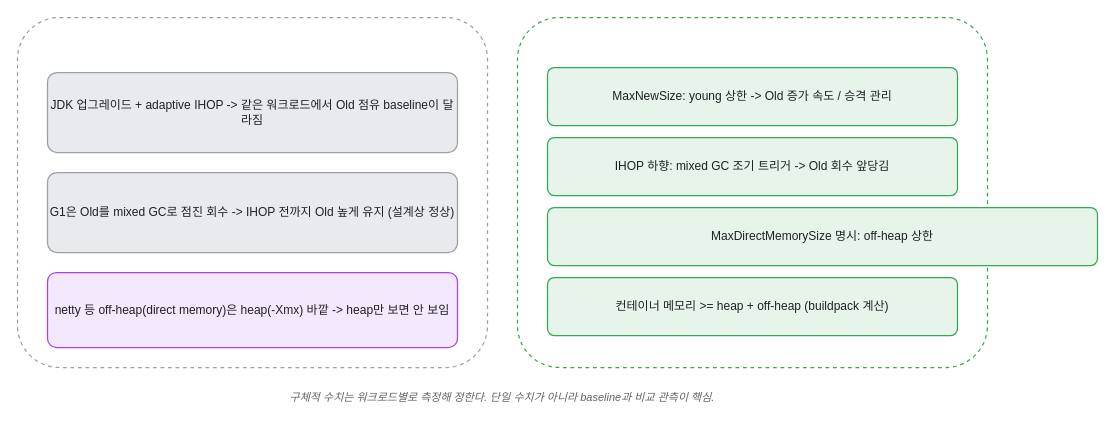
This 1116x430 diagram has some shape labels left out. Here are the shapes that lost their labels. From the top down, the box of each, then its label:
(16, 16, 488, 368): 관찰된 원인 (누수 아님)
(516, 16, 988, 368): 처방 (levers)
